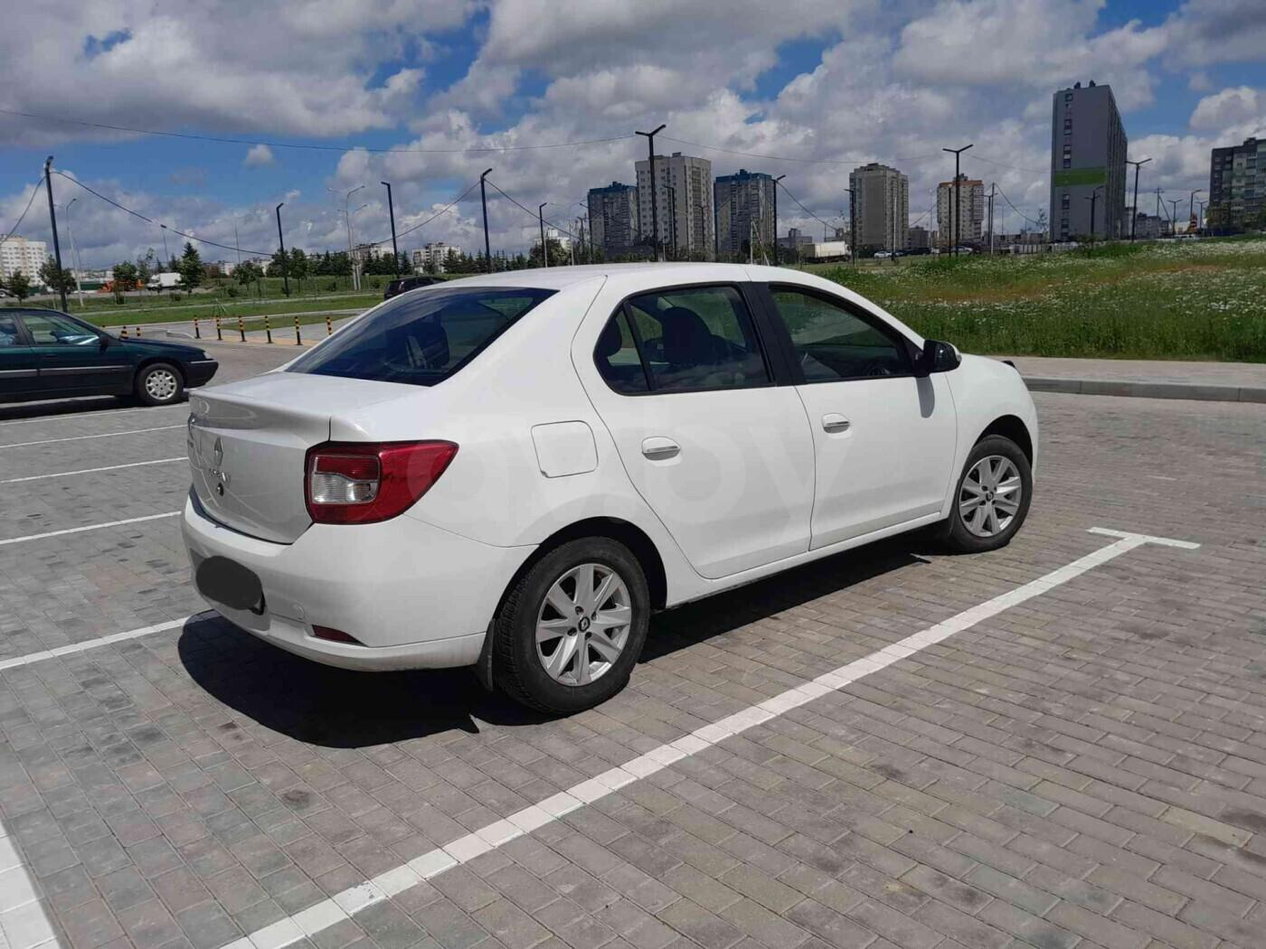Logan_2013-2018: (174, 256, 1048, 710)
